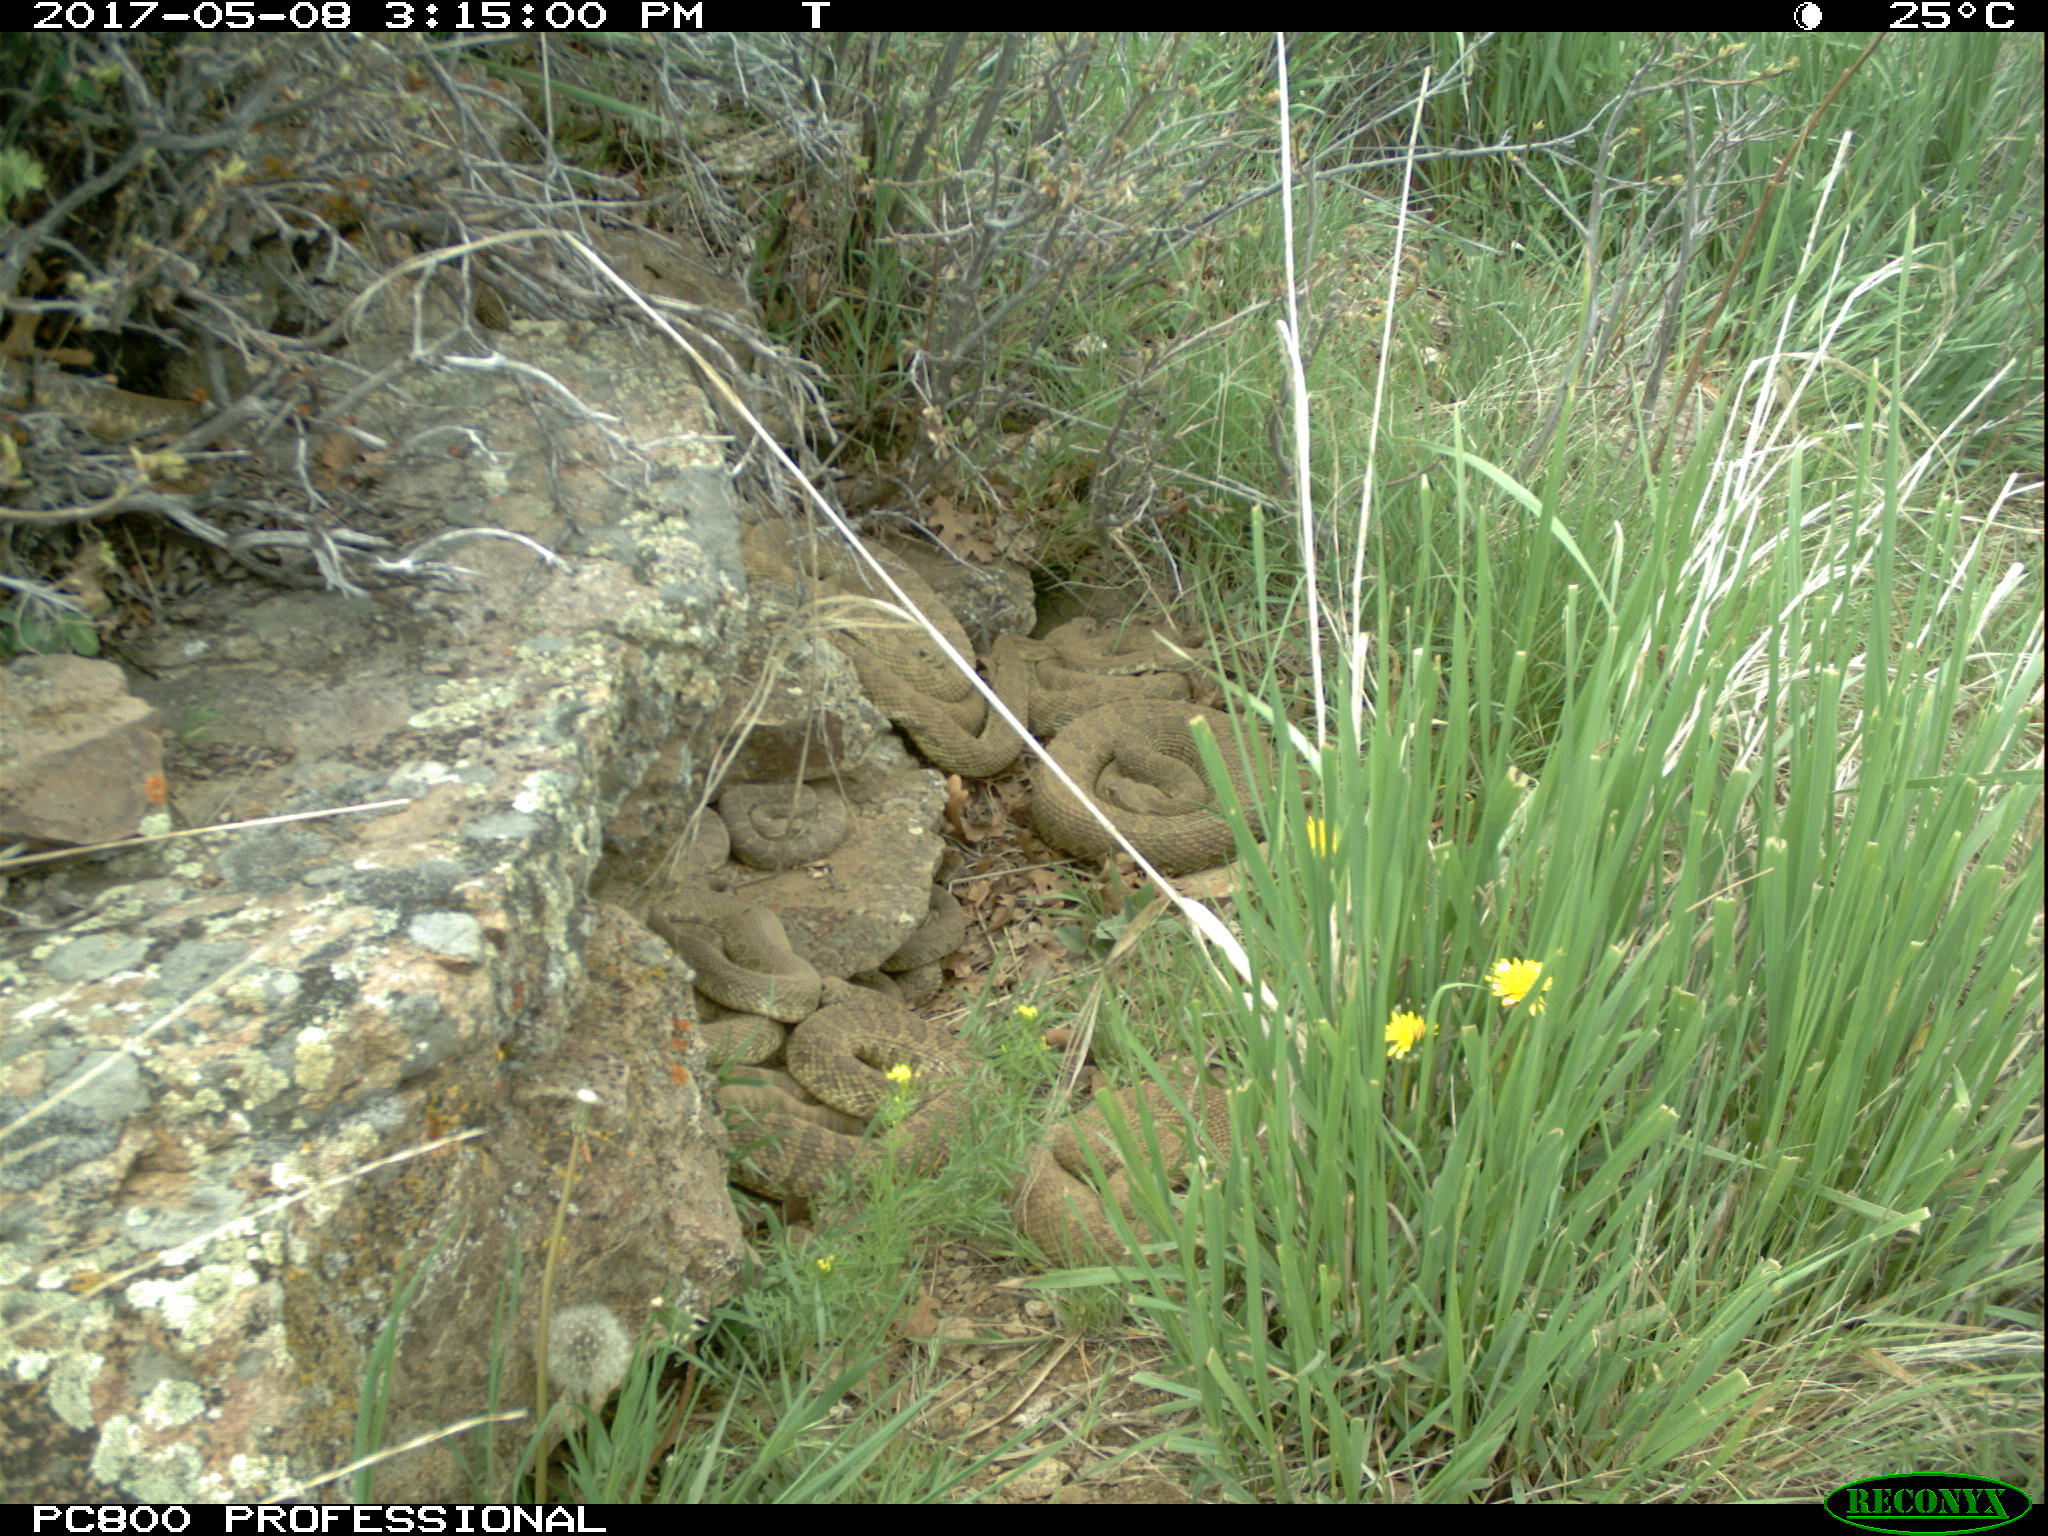snake: (726, 999, 1005, 1210), (1014, 1071, 1274, 1270), (927, 616, 1206, 776), (1032, 699, 1277, 862), (785, 545, 985, 729), (648, 889, 826, 1023), (726, 783, 863, 863)
